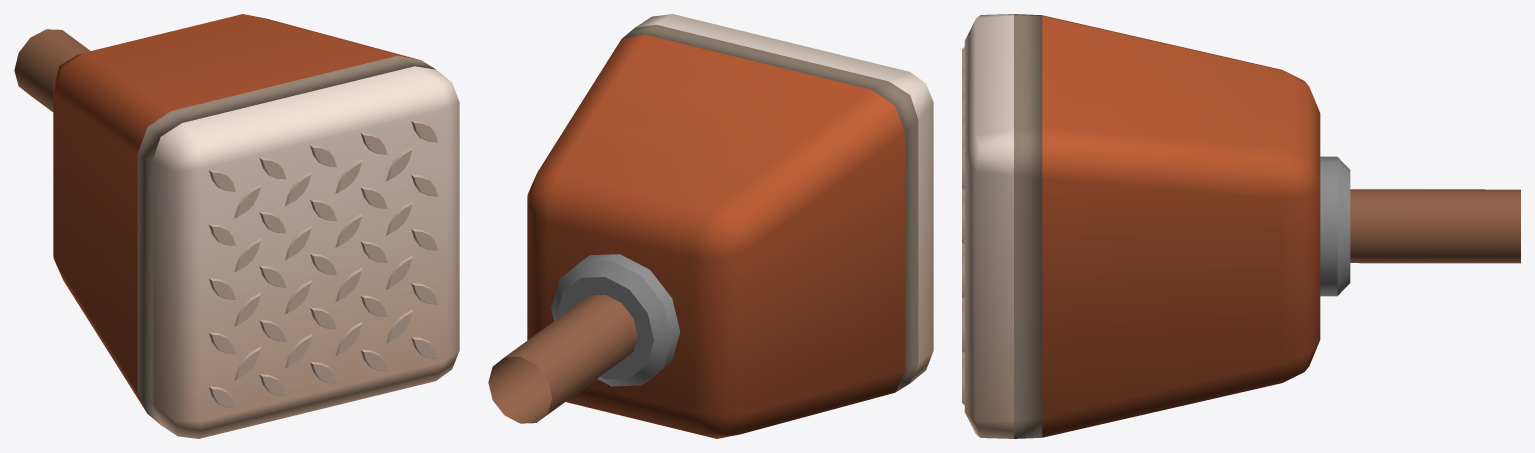
Rendered from obstacle_16_003.fbx.
The picture shows the model from 3 angles, left to right: view 1: azimuth 30°, elevation 25°; view 2: azimuth 150°, elevation 25°; view 3: azimuth 270°, elevation 25°; orthographic projection.
Parts seen in each view (by area): view 1: obstacle_16_003; view 2: obstacle_16_003; view 3: obstacle_16_003.
Boxes of the visible parts, x1,y1,x2,y2 form: obstacle_16_003: (14,14,459,438); obstacle_16_003: (488,14,933,438); obstacle_16_003: (962,14,1520,438).
Size of the model in its own units: 252 by 413 by 252.
